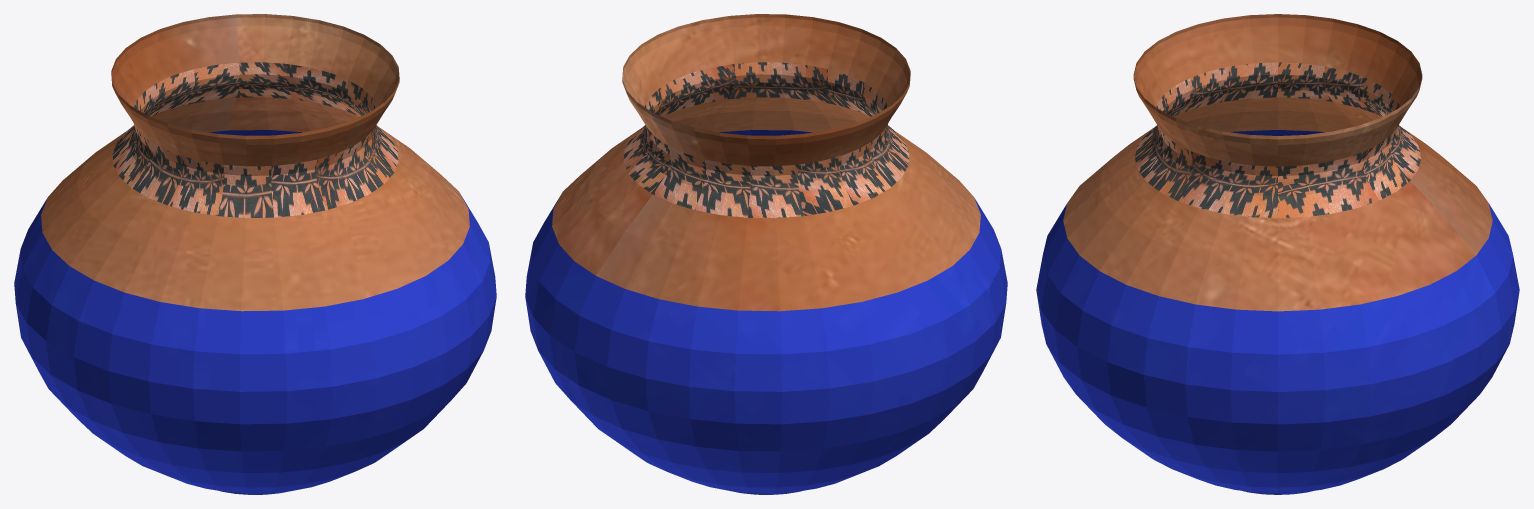
File: pitcher_high.obj
The picture shows the model from 3 angles, left to right: view 1: azimuth 30°, elevation 25°; view 2: azimuth 150°, elevation 25°; view 3: azimuth 270°, elevation 25°; orthographic projection.
Visible parts, largest first — view 1: Circle; view 2: Circle; view 3: Circle.
Part boxes in pixels (bbox=[...]): Circle: bbox=[14, 14, 496, 494]; Circle: bbox=[525, 14, 1007, 494]; Circle: bbox=[1036, 14, 1519, 494].
Size of the model in its own units: 0.948 by 0.84 by 0.948.
